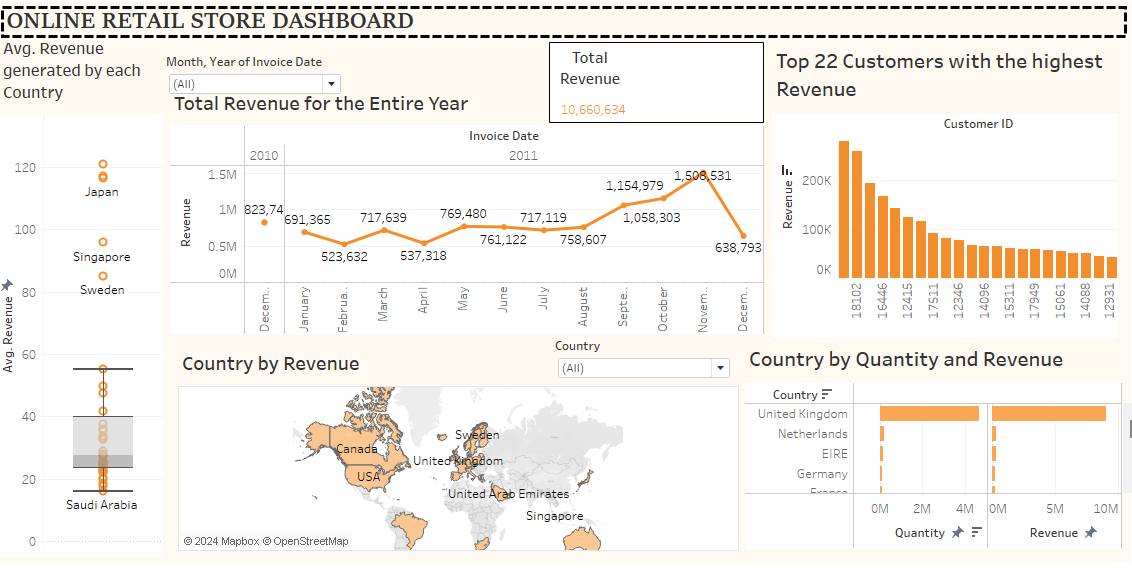

Layout of this report page (visuals, bound fields, positions):
{"tool":"tableau","page":{"name":"Online Retail Dashboard","canvas":[1000,1000],"units":"permille","ordinal":0},"visuals":[{"type":"title","box":[7,11.1,986.1,58.3]},{"type":"worksheet","title":"Box plot","mark":"Shape","rows":["Revenue"],"box":[10.4,63.3,129.9,936.7]},{"type":"worksheet","title":"Total Revenue","mark":"Automatic","box":[480.6,69.6,202.8,120.7]},{"type":"filter","title":"Q1. Line chart","param":"[federated.0csnivs10u0hpo193l1gc0eiqlc7].[my:InvoiceDate:ok]","box":[152.6,79.1,151.7,69.6]},{"type":"worksheet","title":"Q3Column chart","mark":"Automatic","rows":["Revenue"],"cols":["CustomerID"],"box":[687.2,82.3,298.6,473.1]},{"type":"worksheet","title":"Q1. Line chart","mark":"Automatic","rows":["Revenue"],"cols":["InvoiceDate","InvoiceDate"],"box":[145.2,138.7,536.5,417.5]},{"type":"worksheet","title":"Q2. Bar chart","mark":"Automatic","rows":["Country"],"cols":["Quantity","Revenue"],"box":[666.4,544.3,325.1,438.3]},{"type":"filter","title":"Q4. Map  Chart","param":"[federated.0csnivs10u0hpo193l1gc0eiqlc7].[none:Country:nk]","box":[509,560.1,151.7,69.6]},{"type":"worksheet","title":"Q4. Map  Chart","mark":"Multipolygon","box":[155.5,564.9,504.3,411.4]}]}

Visuals, with their boxes on the dashboard's canvas, which has no fixed pixel size, in thousandths of its width and height (x1, y1, x2, y2). These are canvas units, not pixel positions in the 1132x571 screenshot, which may show the page scaled, cropped or inside an application window:
title: bbox(7, 11, 993, 69)
"Box plot" worksheet (Shape marks): bbox(10, 63, 140, 1000)
"Total Revenue" worksheet: bbox(481, 70, 683, 190)
"Q1. Line chart" filter: bbox(153, 79, 304, 149)
"Q3Column chart" worksheet: bbox(687, 82, 986, 555)
"Q1. Line chart" worksheet: bbox(145, 139, 682, 556)
"Q2. Bar chart" worksheet: bbox(666, 544, 992, 983)
"Q4. Map  Chart" filter: bbox(509, 560, 661, 630)
"Q4. Map  Chart" worksheet (Multipolygon marks): bbox(156, 565, 660, 976)
